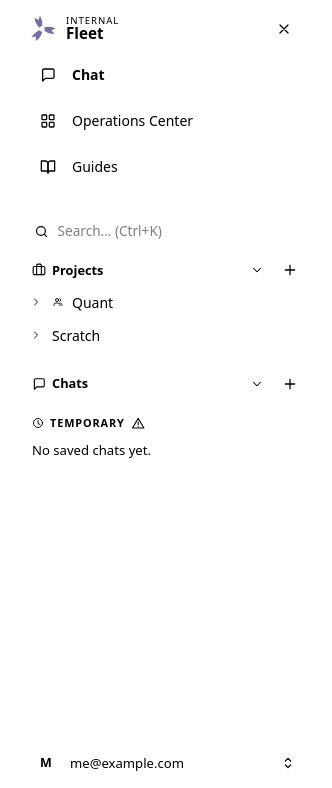
Test case: ConversationSidebar — a project's empty state is viewer-aware › says “No chats yet” for an empty personal project
The image size is (332, 788).
Step 1. Click the button named "Project Scratch (0 chats)" → (36, 336), box 24,324 -> 48,348
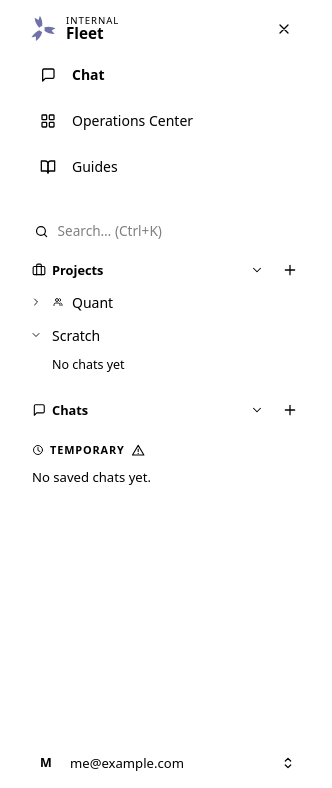
Now the text "No chats yet" is shown, box 52,356 -> 125,373
